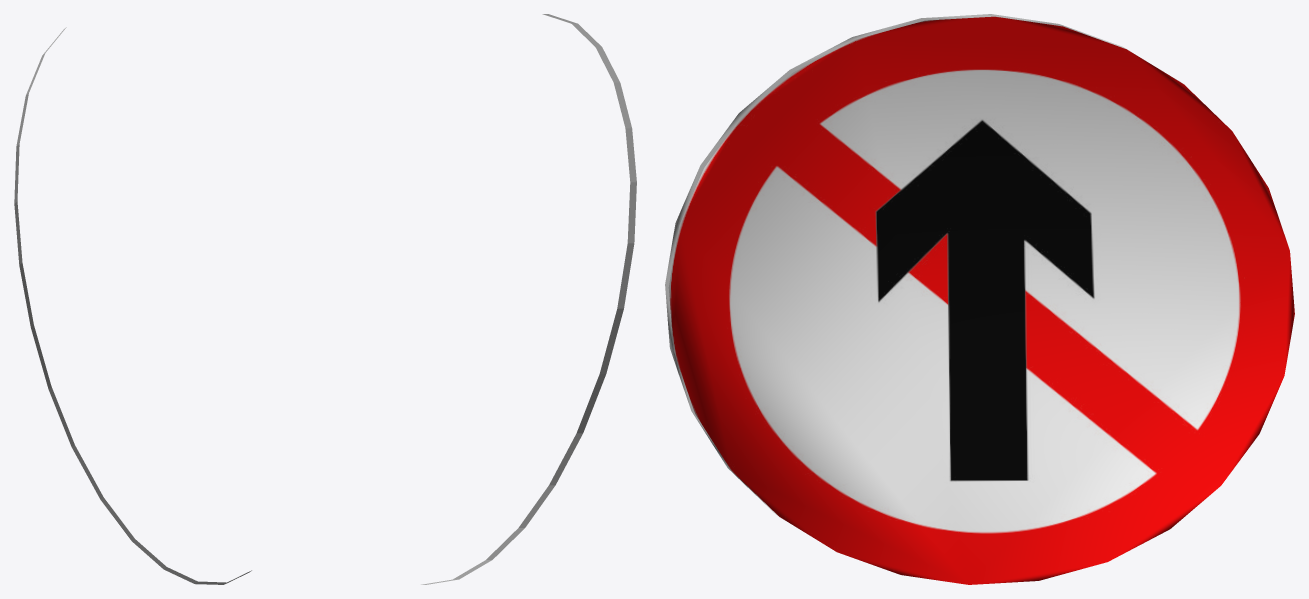
The picture shows the model from 3 angles, left to right: view 1: azimuth 30°, elevation 25°; view 2: azimuth 150°, elevation 25°; view 3: azimuth 270°, elevation 25°; orthographic projection. The views are drawn at different scales.
Visible parts, largest first — view 1: model02; view 2: model02; view 3: model02.
Part boxes in pixels (x1=…): model02: x1=14, y1=27, x2=251, y2=584; model02: x1=421, y1=14, x2=636, y2=584; model02: x1=665, y1=14, x2=1294, y2=584.
Size of the model in its own units: 0.0279 by 1.19 by 1.19.
3 materials, 2 textured.
